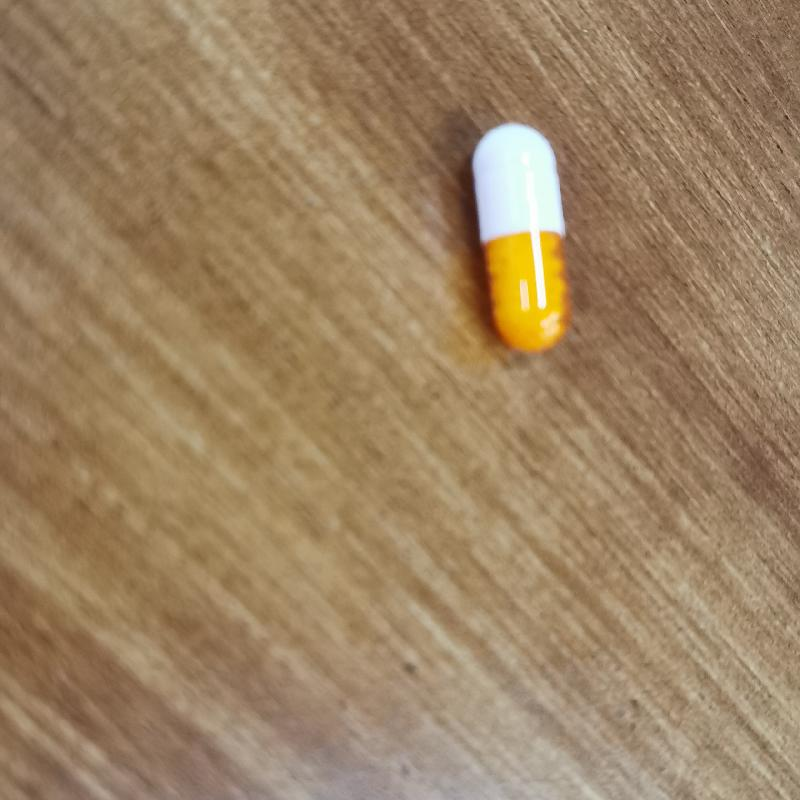pills: (462, 110, 596, 370)
